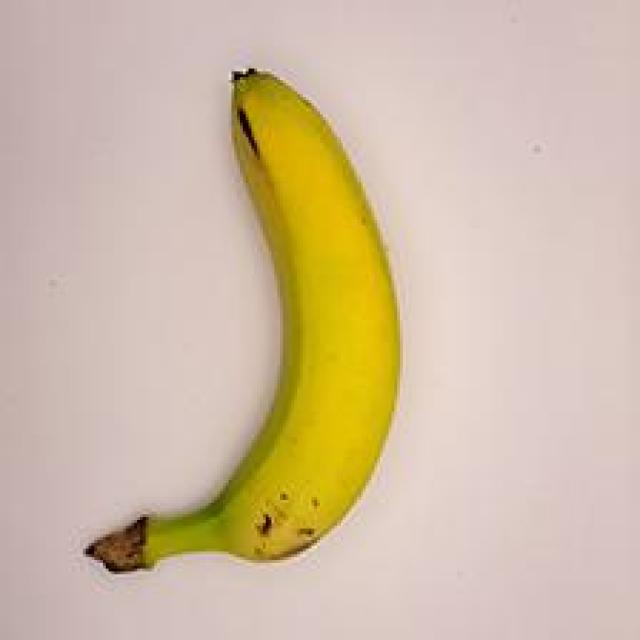unripe: (76, 60, 420, 609)
